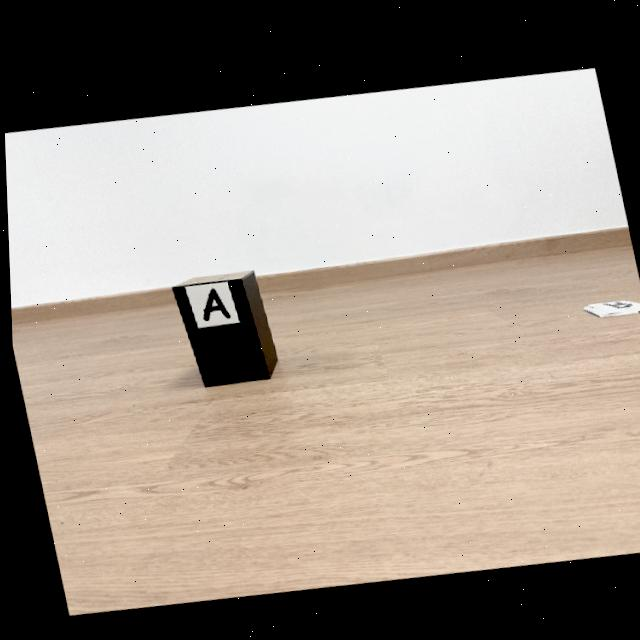A: (200, 285, 228, 318)
